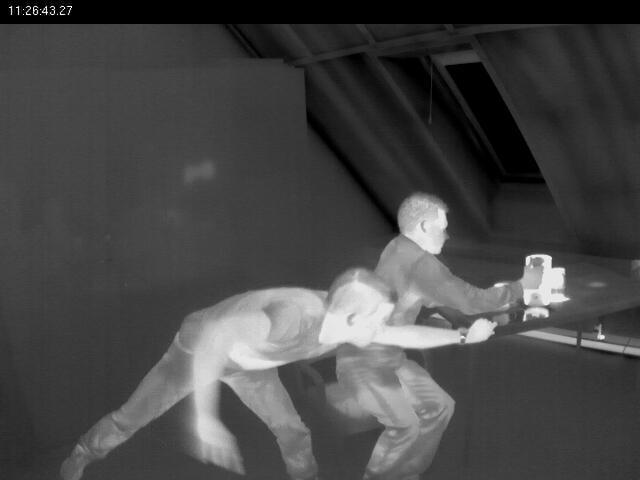person: (344, 163, 498, 480), (239, 193, 390, 480)
